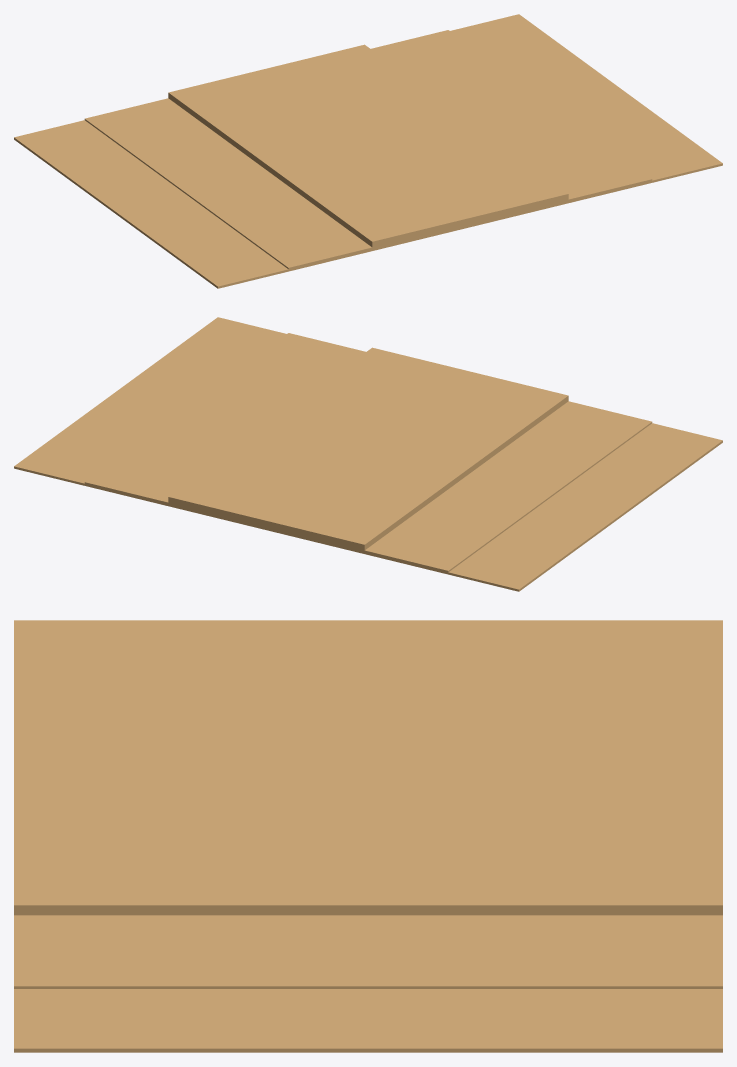
File: to220-stairs.glb
3 renders of one model, top to bottom at view 1: azimuth 30°, elevation 25°; view 2: azimuth 150°, elevation 25°; view 3: azimuth 270°, elevation 25°, orthographic. The views are drawn at different scales.
Parts seen in each view (by area): view 1: TO220_楼梯.STL; view 2: TO220_楼梯.STL; view 3: TO220_楼梯.STL.
Part boxes in pixels (x1,y1,x2,y2): TO220_楼梯.STL: (14,14,722,288); TO220_楼梯.STL: (14,317,722,591); TO220_楼梯.STL: (14,620,722,1052).
Bounding box in the file's own units: 5 × 0.0888 × 3.5.
